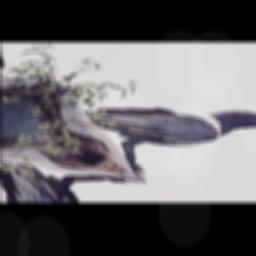Crow: (41, 65, 256, 192)
